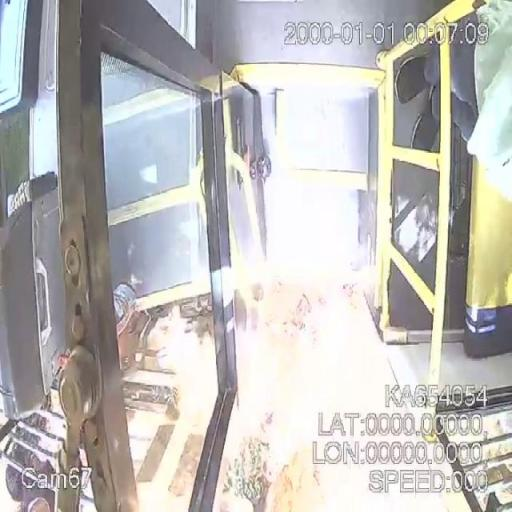persona: (397, 8, 511, 166)
